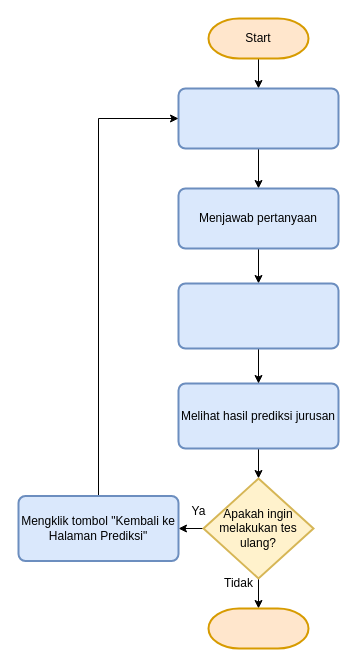
This 356x666 diagram has some shape labels left out. Here are the shapes that lost their labels. From the top down, the centre of each, then its label:
(x=258, y=118): Melihat halaman prediksi kecocokan jurusan
(x=258, y=315): Mengklik tombol "Prediksi Hasil Jurusan"
(x=258, y=628): End
